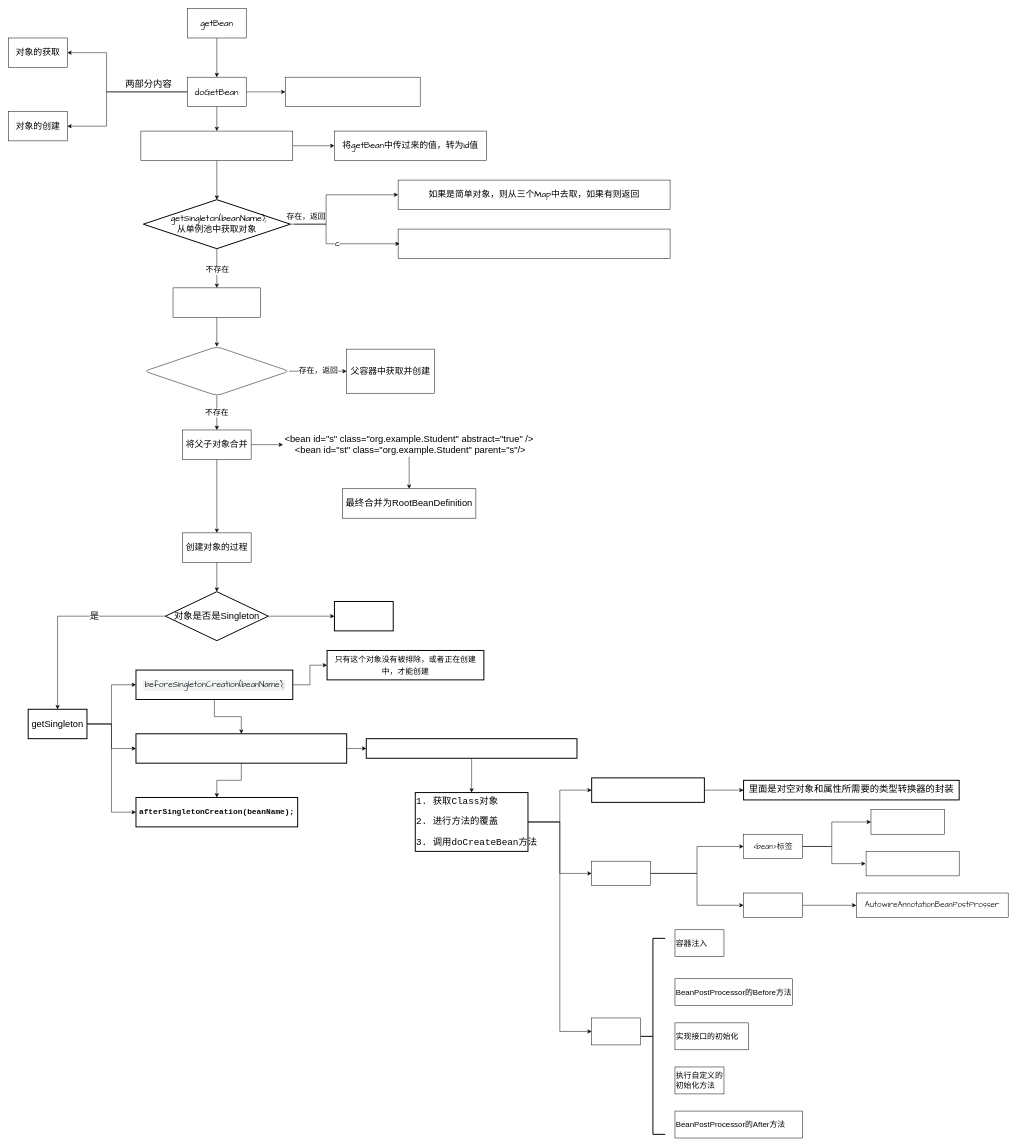
Some shapes in this 1017 by 1147 pixel diagram are drawn without their labels. Each missing label, with the centre of its shape:
1. 获取BeanWrapper: pixel 648 790
2. 属性填充: pixel 620 873
3. 初始化: pixel 616 1031
JDK类型为 TypeStringValue: pixel 907 821
singletonObject = singletonFactory.getObject();: pixel 241 748
transformedBeanName(name);: pixel 216 145
以下就是该方法中的步骤: pixel 352 92
如果是复杂对象，则返回FactoryBean中getObject: pixel 534 243
如果说存在父容器，且对应的对象的配置在子容器中没有: pixel 216 371
实际上是createBean方法的回调: pixel 471 748
引用类型是 RuntimeBeanReferences: pixel 912 863
注解的形式: pixel 772 905
父子容器的整合: pixel 217 302
